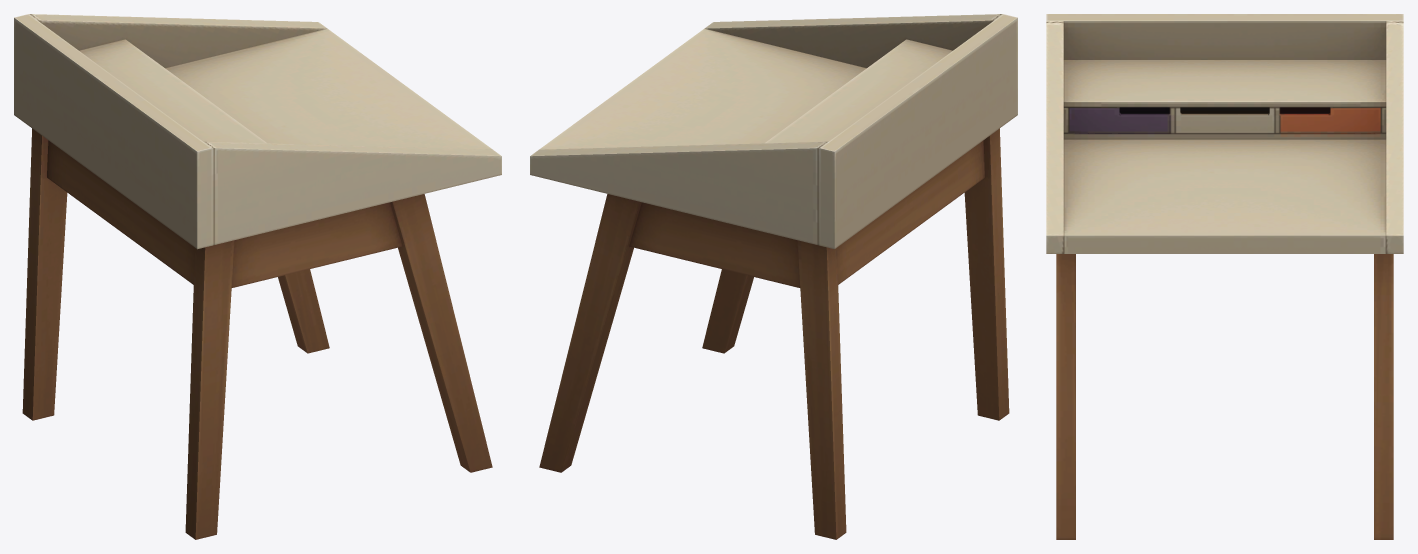
Rendered from TinyDeskForTinyLiving.fbx.
3 renders of one model, left to right at view 1: azimuth 30°, elevation 25°; view 2: azimuth 150°, elevation 25°; view 3: azimuth 270°, elevation 25°, orthographic. The views are drawn at different scales.
Parts seen in each view (by area): view 1: TinyLiving_TinyDeskForTinyLiving; view 2: TinyLiving_TinyDeskForTinyLiving; view 3: TinyLiving_TinyDeskForTinyLiving.
Boxes of the visible parts, bbox=[...] form: TinyLiving_TinyDeskForTinyLiving: bbox=[14, 14, 501, 539]; TinyLiving_TinyDeskForTinyLiving: bbox=[530, 14, 1017, 539]; TinyLiving_TinyDeskForTinyLiving: bbox=[1046, 14, 1403, 539].
Bounding box in the file's own units: 81.19 × 100 × 84.65.
